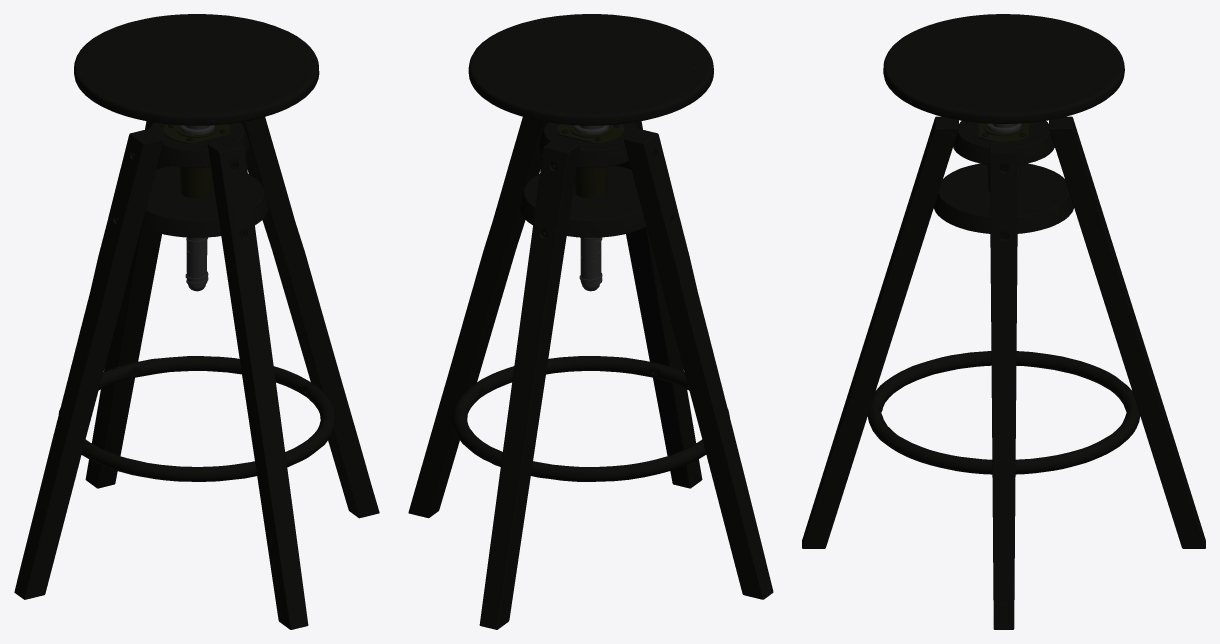
File: dalfred_stoek_barowy_60155602.glb
The picture shows the model from 3 angles, left to right: view 1: azimuth 30°, elevation 25°; view 2: azimuth 150°, elevation 25°; view 3: azimuth 270°, elevation 25°; orthographic projection.
Visible parts, largest first — view 1: dalfred_stoek_barowy_60155602; view 2: dalfred_stoek_barowy_60155602; view 3: dalfred_stoek_barowy_60155602.
Part boxes in pixels (x1,y1,x2,y2): dalfred_stoek_barowy_60155602: (14, 14, 379, 629); dalfred_stoek_barowy_60155602: (408, 14, 773, 629); dalfred_stoek_barowy_60155602: (802, 14, 1205, 629).
Bounding box in the file's own units: 0.494 × 0.6492 × 0.494.
1 material, 1 textured.
